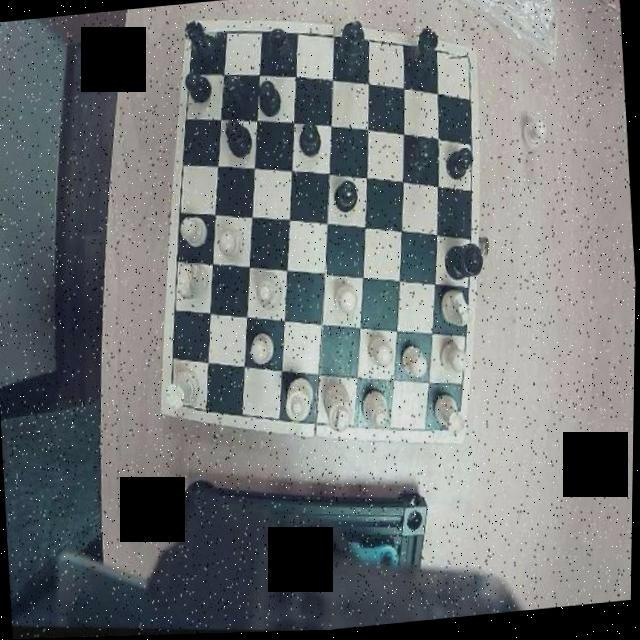chess-table-corners: (185, 20, 218, 58), (162, 386, 197, 421), (433, 416, 467, 449), (448, 46, 476, 80)
